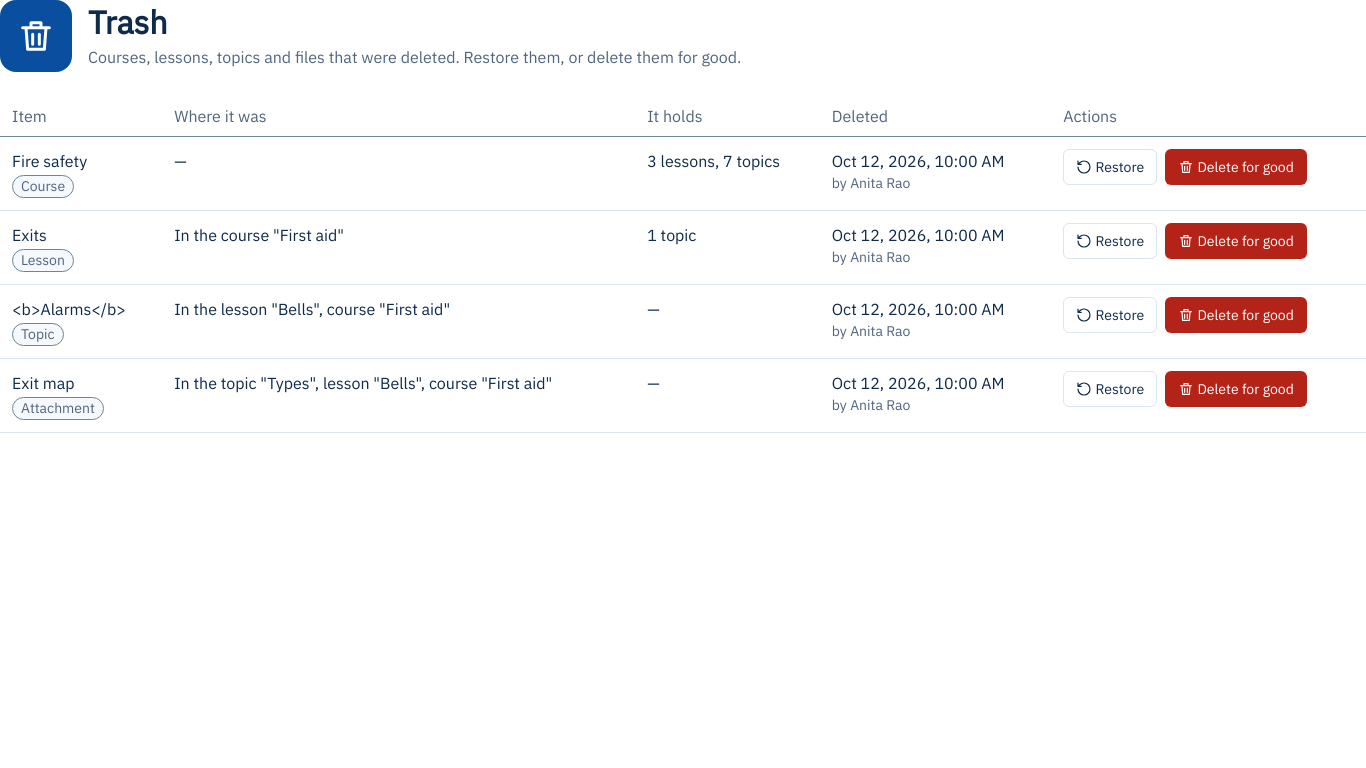
TrashPage › shows what the server says inside the dialog and keeps it open
Click the button named "Delete Fire safety for good": (1236, 167) [1165,149,1307,185]
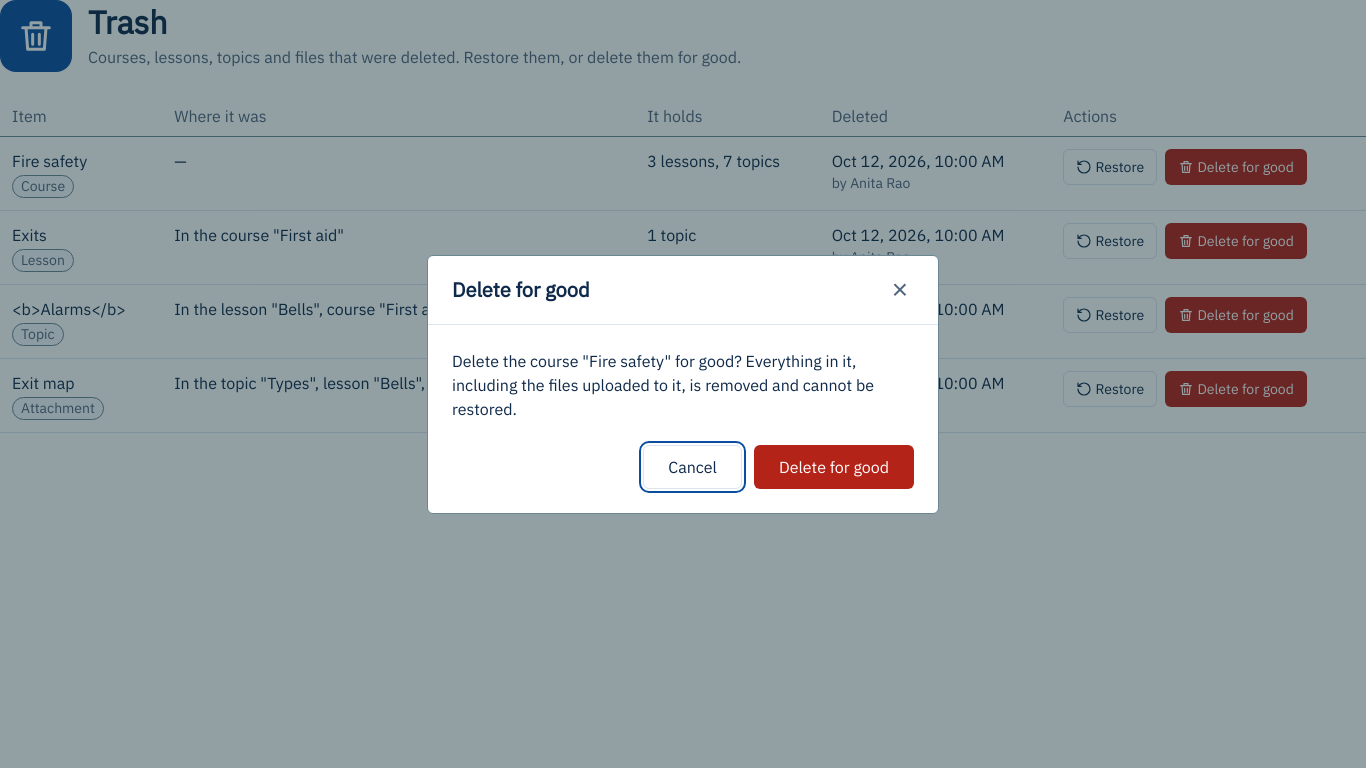
Click the button "Delete for good": (834, 466) [754,444,914,488]
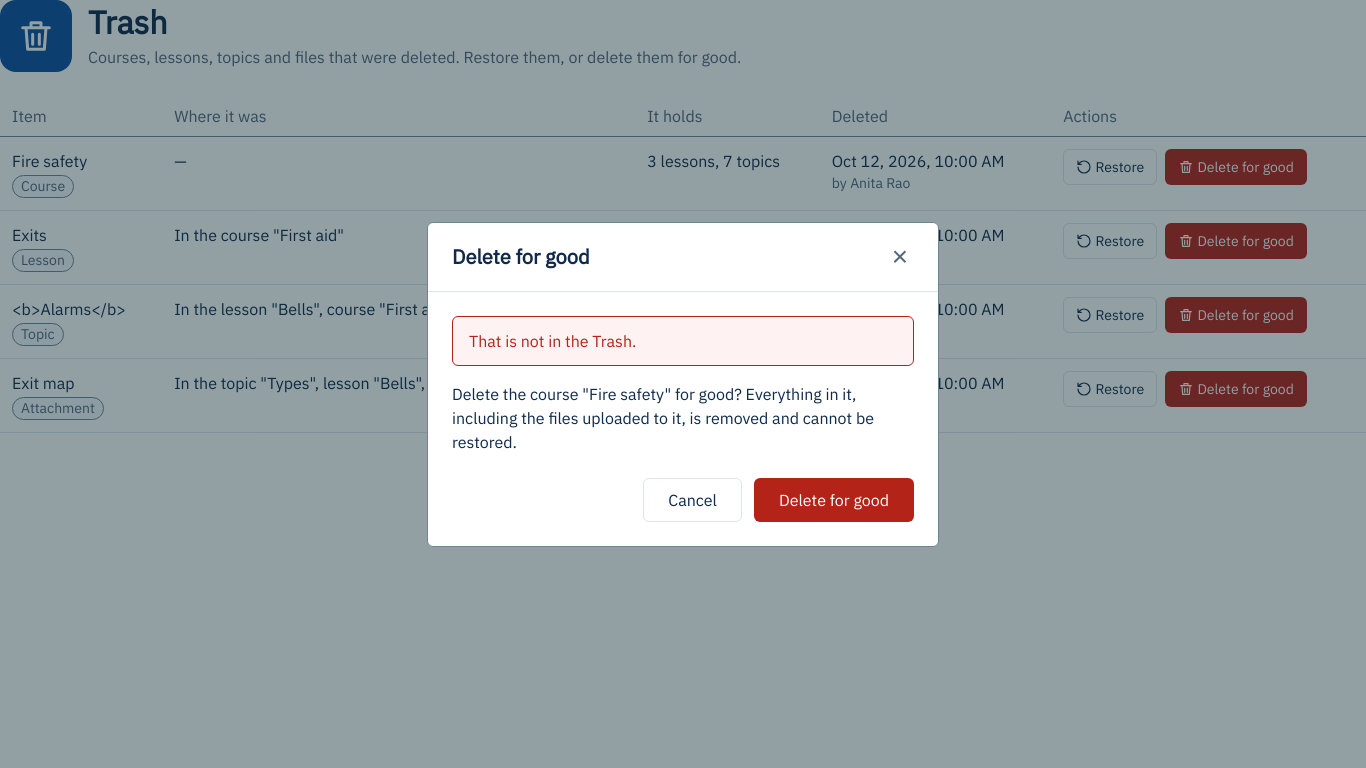
Expected: the message reads "That is not in the Trash.", [469,330,636,350]
